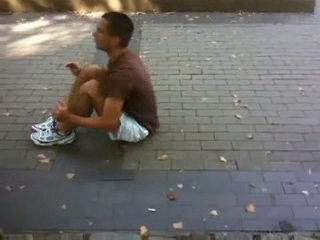sit_up: (35, 20, 141, 142)
